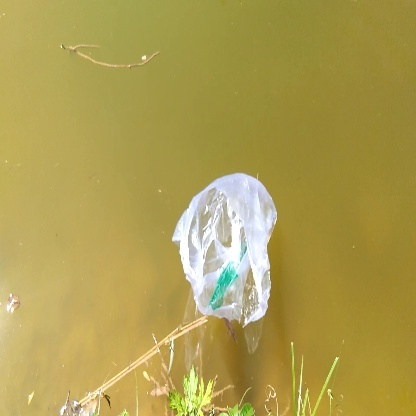plastic-bag: (172, 166, 272, 320)
